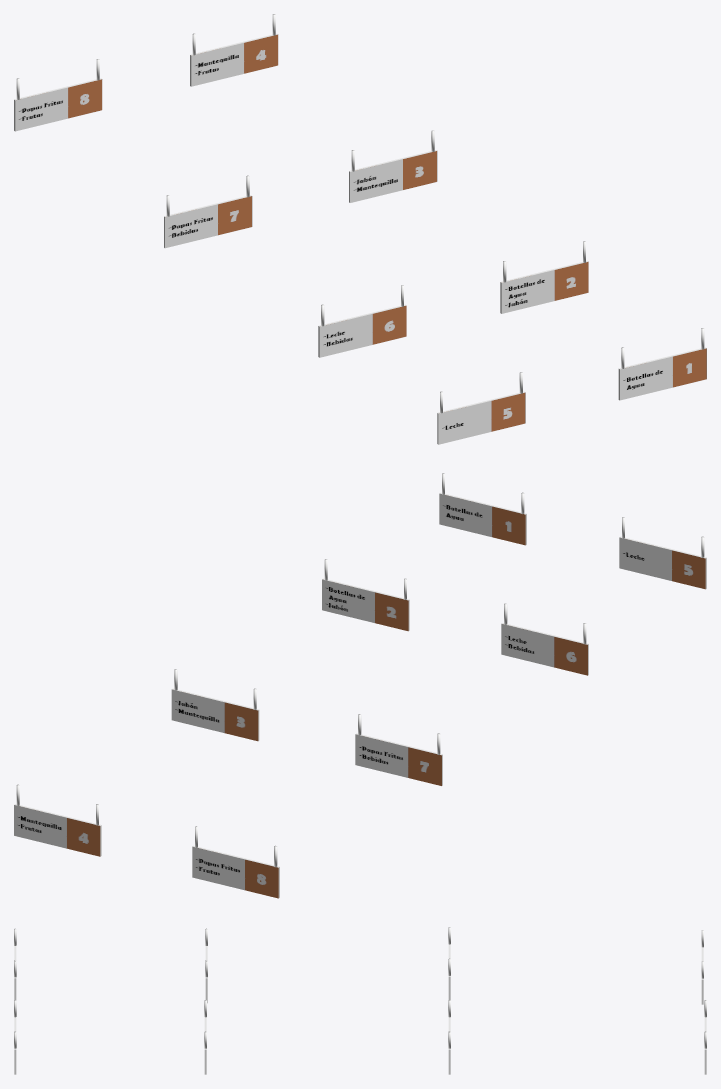
Rendered from CartelesPasillo.fbx.
The picture shows the model from 3 angles, top to bottom: view 1: azimuth 30°, elevation 25°; view 2: azimuth 150°, elevation 25°; view 3: azimuth 270°, elevation 25°; orthographic projection. The views are drawn at different scales.
Visible parts, largest first — view 1: Cylinder.029, Cylinder.014, Cylinder.013, Cylinder.028, Cylinder.007, Cylinder.031, Cylinder.030, Cylinder.027; view 2: Cylinder.007, Cylinder.031, Cylinder.014, Cylinder.028, Cylinder.013, Cylinder.030, Cylinder.027, Cylinder.029; view 3: no part large enough to name.
Part boxes in pixels (box(x1,y1,x2,y2)): Cylinder.029: box(190, 14, 278, 86); Cylinder.014: box(164, 175, 252, 248); Cylinder.013: box(14, 59, 102, 131); Cylinder.028: box(618, 328, 706, 400); Cylinder.007: box(349, 130, 437, 202); Cylinder.031: box(318, 285, 406, 357); Cylinder.030: box(437, 372, 525, 444); Cylinder.027: box(500, 241, 588, 313); Cylinder.007: box(171, 669, 259, 741); Cylinder.031: box(501, 603, 588, 675); Cylinder.014: box(355, 714, 442, 785); Cylinder.028: box(439, 473, 526, 545); Cylinder.013: box(192, 826, 279, 898); Cylinder.030: box(619, 517, 706, 589); Cylinder.027: box(322, 559, 409, 631); Cylinder.029: box(14, 784, 101, 856).
Size of the model in its own units: 1060 by 191 by 2902.
Materials: 8 (8 with a texture image).
